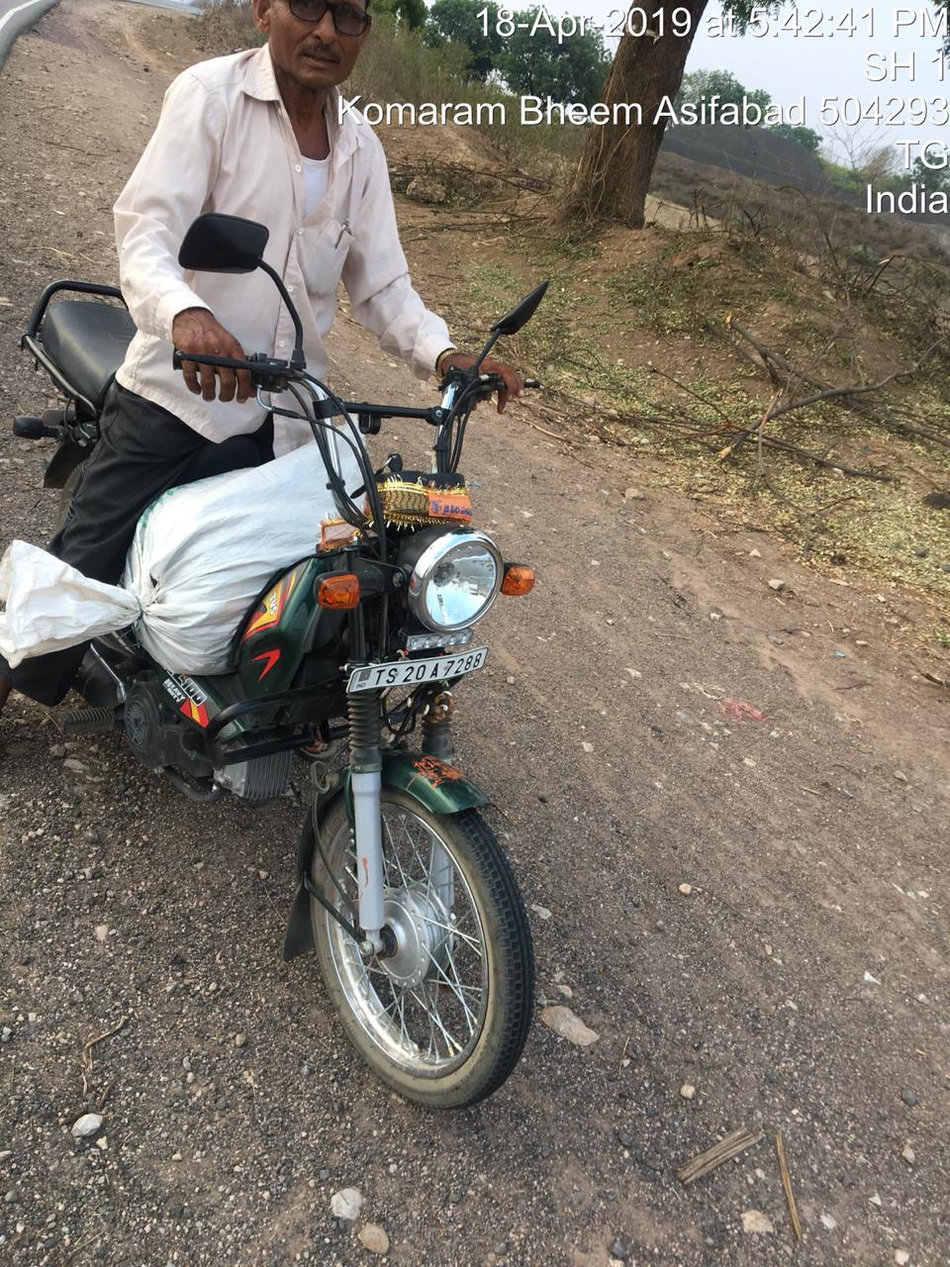plate: (326, 634, 515, 710)
